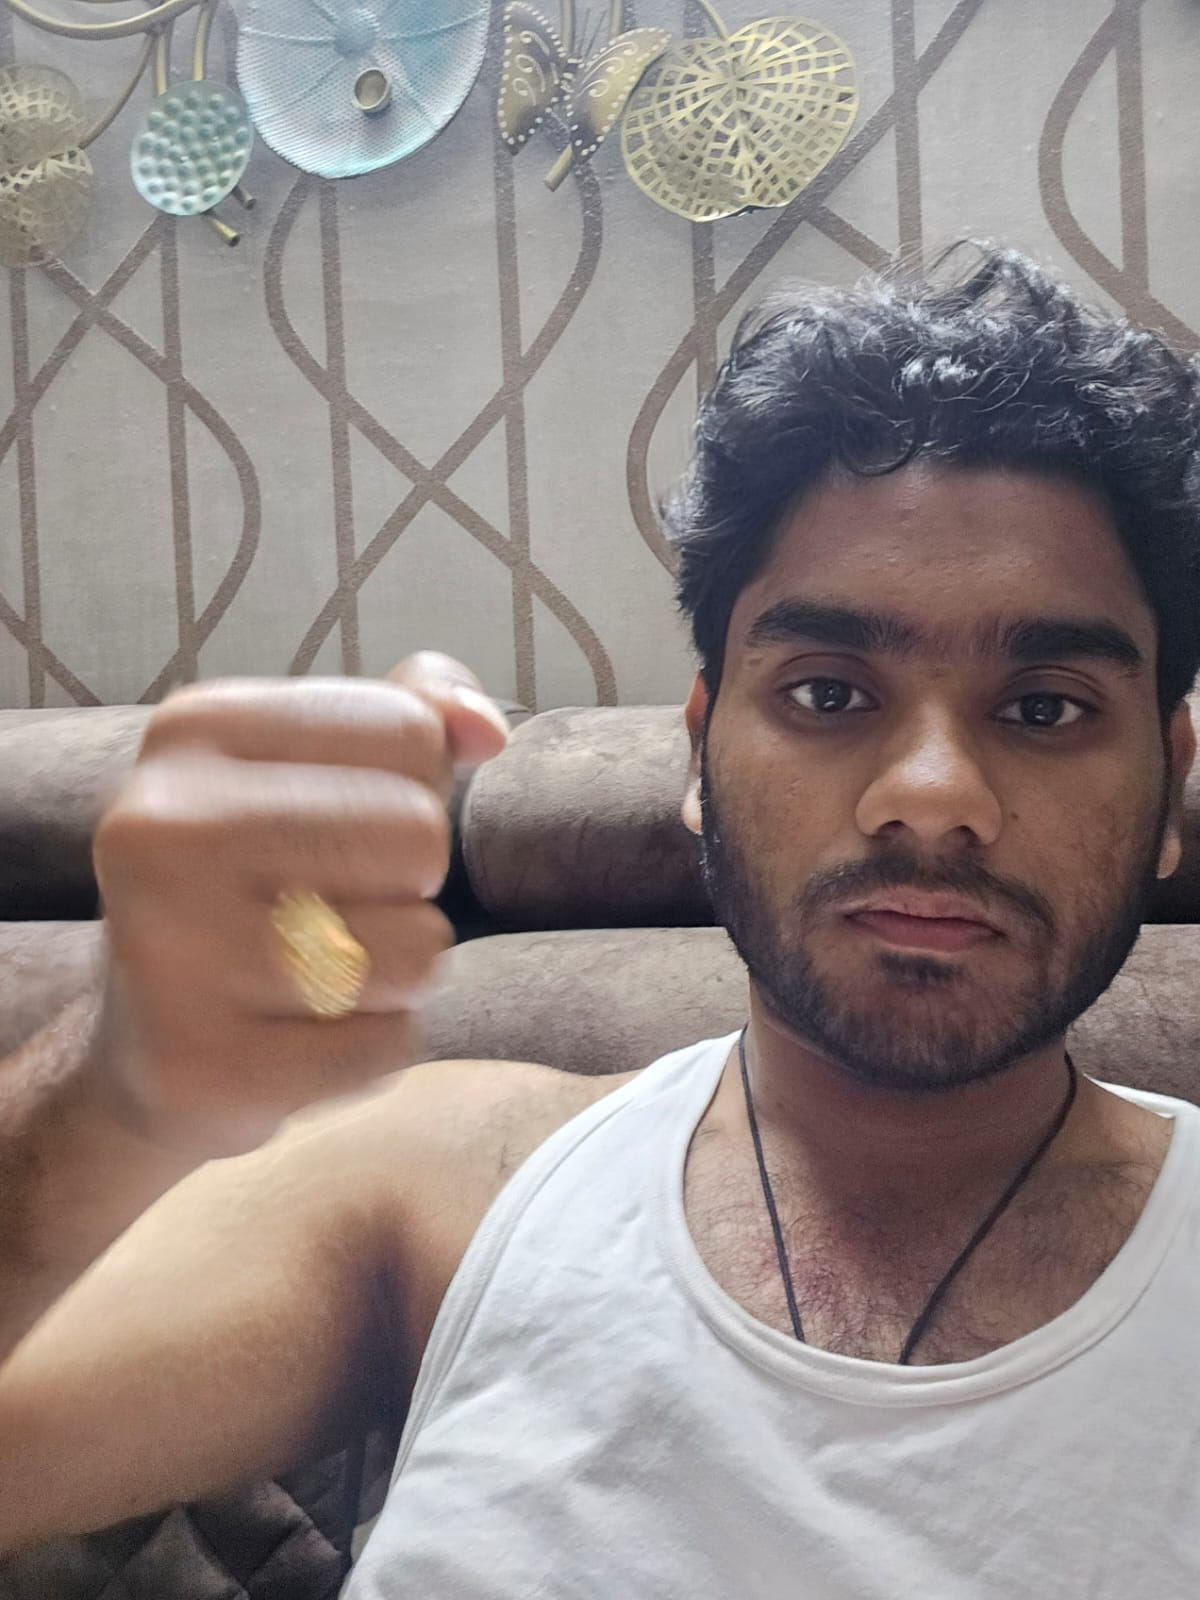yes: (89, 648, 511, 1155)
